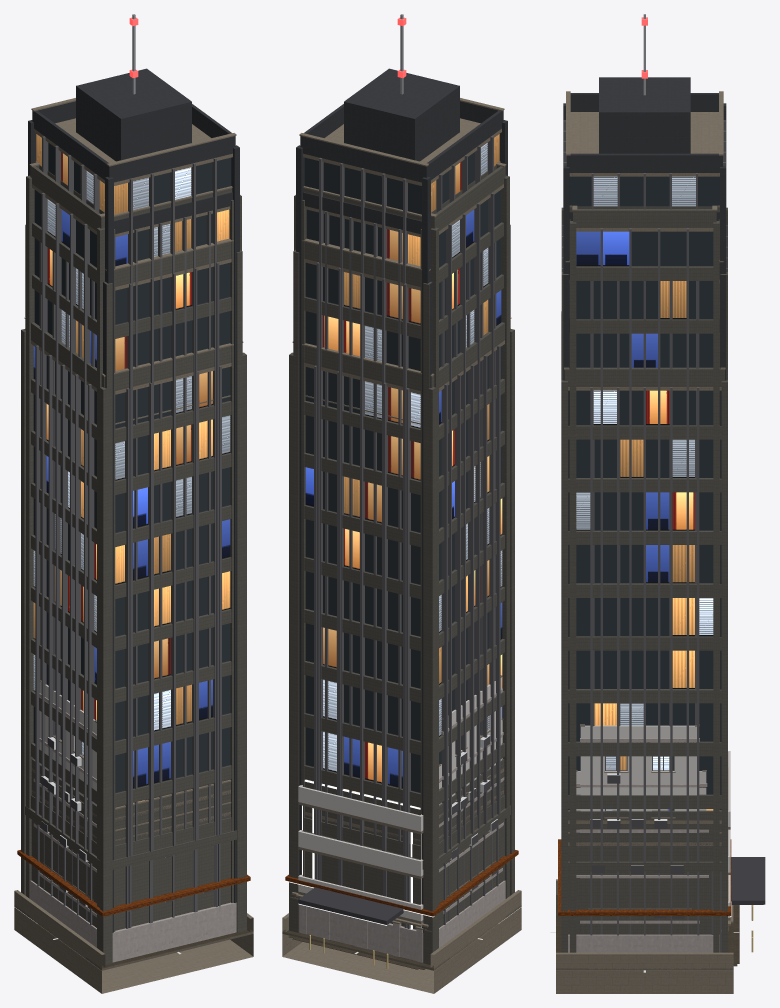
The model's file is lagos.glb.
3 views of the same model, side by side, from view 1: azimuth 30°, elevation 25°; view 2: azimuth 150°, elevation 25°; view 3: azimuth 270°, elevation 25° (orthographic).
Visible parts, largest first — view 1: tower-a-mesh, tower-f-mesh, tower-d-mesh, tower-e-mesh, club-tower-mesh, club-box-mesh, road-bridge-mesh, house-a-mesh, tower-b-mesh, club-two-mesh, house-b-mesh, apartment-f-mesh (+5 smaller); view 2: tower-a-mesh, tower-f-mesh, tower-e-mesh, tower-d-mesh, club-tower-mesh, club-two-mesh, road-bridge-mesh, club-box-mesh, apartment-a-mesh, tower-b-mesh, house-a-mesh, apartment-f-mesh (+7 smaller); view 3: tower-a-mesh, tower-e-mesh, tower-f-mesh, club-box-mesh, apartment-f-mesh, road-bridge-mesh, tower-b-mesh, club-two-mesh, house-c-mesh, tower-c-mesh, club-beach-mesh, tower-d-mesh (+6 smaller).
Boxes of the visible parts, <box> form: tower-a-mesh: <box>21,317,246,964</box>; tower-f-mesh: <box>28,17,239,932</box>; tower-d-mesh: <box>25,224,242,963</box>; tower-e-mesh: <box>26,69,241,949</box>; club-tower-mesh: <box>35,14,233,931</box>; club-box-mesh: <box>31,782,231,930</box>; road-bridge-mesh: <box>14,890,253,993</box>; house-a-mesh: <box>25,873,236,961</box>; tower-b-mesh: <box>25,225,241,859</box>; club-two-mesh: <box>31,758,231,918</box>; house-b-mesh: <box>30,880,236,951</box>; apartment-f-mesh: <box>39,680,96,917</box>; tower-a-mesh: <box>289,317,514,964</box>; tower-f-mesh: <box>296,17,507,932</box>; tower-e-mesh: <box>294,69,509,949</box>; tower-d-mesh: <box>293,224,510,963</box>; club-tower-mesh: <box>302,14,500,903</box>; club-two-mesh: <box>298,759,504,968</box>; road-bridge-mesh: <box>282,890,521,993</box>; club-box-mesh: <box>298,781,504,968</box>; apartment-a-mesh: <box>298,785,476,923</box>; tower-b-mesh: <box>294,225,510,859</box>; house-a-mesh: <box>290,881,505,962</box>; apartment-f-mesh: <box>441,675,502,914</box>; tower-a-mesh: <box>561,311,727,952</box>; tower-e-mesh: <box>570,70,719,952</box>; tower-f-mesh: <box>563,17,726,273</box>; club-box-mesh: <box>568,832,765,952</box>; apartment-f-mesh: <box>580,724,699,923</box>; road-bridge-mesh: <box>556,879,733,993</box>; tower-b-mesh: <box>563,260,726,810</box>; club-two-mesh: <box>568,810,765,950</box>; house-c-mesh: <box>568,935,719,952</box>; tower-c-mesh: <box>569,439,719,810</box>; club-beach-mesh: <box>558,839,731,916</box>; tower-d-mesh: <box>561,207,727,380</box>.
Bounding box in the file's own units: 11.7 × 64.27 × 13.33.
43 materials, 29 textured.
